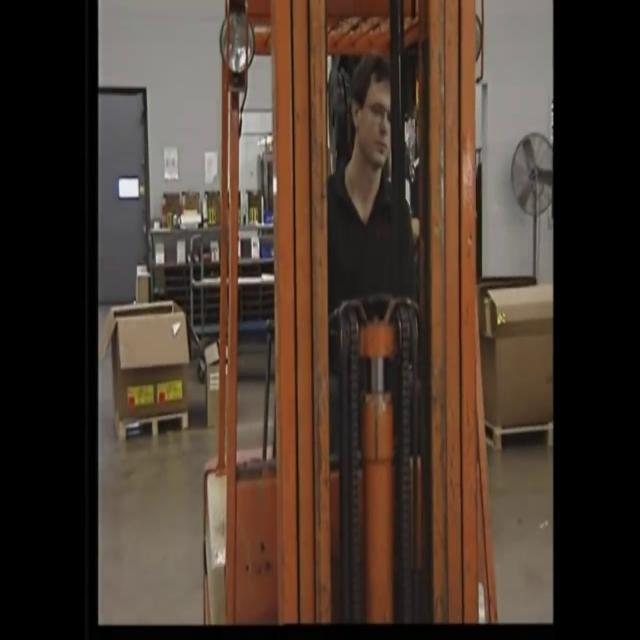forklift: (190, 2, 503, 624)
person: (302, 48, 427, 367)
